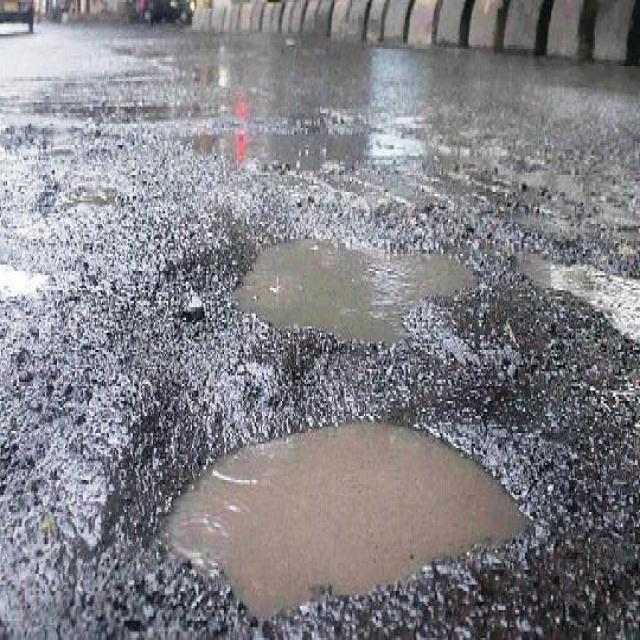pothole: (106, 387, 542, 635), (113, 384, 543, 625), (205, 209, 489, 350), (222, 216, 495, 351), (484, 229, 640, 354)
